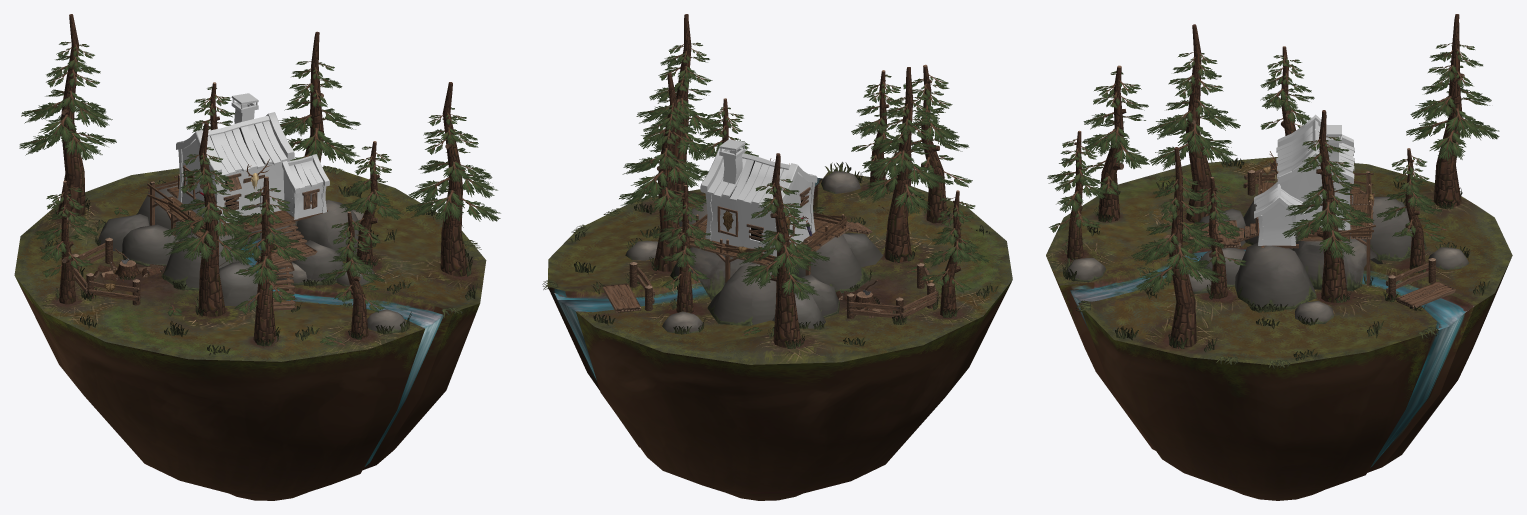
Rendered from Game_Art_Exam_Export.fbx.
3 views of the same model, side by side, from view 1: azimuth 30°, elevation 25°; view 2: azimuth 150°, elevation 25°; view 3: azimuth 270°, elevation 25° (orthographic).
Visible parts, largest first — view 1: Ground, Rocks, Trees, Object024, Object020, Object027, Roof1, House, Object019, Object002, Object025, Object021 (+4 smaller); view 2: Ground, Rocks, Trees, Object020, Object019, Object024, Roof1, House, Object027, Object022, Object021, Balkony (+5 smaller); view 3: Ground, Rocks, Trees, Object024, Object020, Object019, Object027, Object025, Roof1, House, Object022, Object021 (+5 smaller).
Part boxes in pixels (bbox=[...]): Ground: bbox=[14, 166, 486, 500]; Rocks: bbox=[97, 182, 406, 333]; Trees: bbox=[94, 122, 403, 316]; Object024: bbox=[406, 82, 500, 276]; Object020: bbox=[19, 14, 116, 218]; Object027: bbox=[223, 176, 306, 344]; Roof1: bbox=[176, 93, 294, 177]; House: bbox=[178, 140, 326, 223]; Object019: bbox=[278, 31, 360, 163]; Object002: bbox=[72, 201, 327, 310]; Object025: bbox=[318, 211, 385, 338]; Object021: bbox=[34, 180, 98, 304]; Ground: bbox=[547, 171, 1012, 500]; Rocks: bbox=[625, 171, 882, 334]; Trees: bbox=[694, 67, 953, 317]; Object020: bbox=[736, 153, 829, 347]; Object019: bbox=[619, 72, 708, 271]; Object024: bbox=[636, 14, 729, 208]; Roof1: bbox=[700, 139, 817, 207]; House: bbox=[705, 173, 815, 256]; Object027: bbox=[884, 64, 972, 223]; Object022: bbox=[652, 185, 717, 313]; Object021: bbox=[921, 190, 989, 316]; Balkony: bbox=[677, 212, 848, 266]; Ground: bbox=[1046, 157, 1512, 500]; Rocks: bbox=[1066, 194, 1469, 323]; Trees: bbox=[1147, 24, 1246, 299]; Object024: bbox=[1131, 147, 1224, 347]; Object020: bbox=[1406, 14, 1499, 206]; Object019: bbox=[1282, 110, 1374, 302]; Object027: bbox=[1082, 65, 1149, 221]; Object025: bbox=[1047, 130, 1108, 259]; Roof1: bbox=[1276, 114, 1354, 184]; House: bbox=[1258, 161, 1352, 245]; Object022: bbox=[1376, 148, 1445, 269]; Object021: bbox=[1260, 46, 1314, 135].
Bounding box in the file's own units: 1236 × 1212 × 1199.
